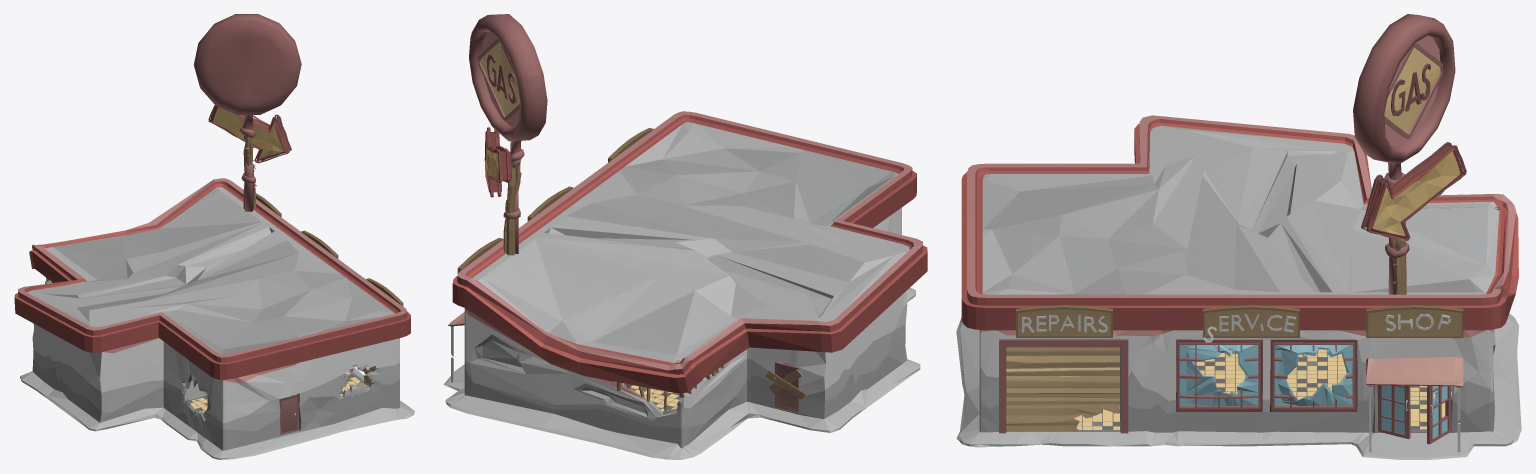
Rendered from gas_Station_building_1.obj.
3 views of the same model, side by side, from view 1: azimuth 30°, elevation 25°; view 2: azimuth 150°, elevation 25°; view 3: azimuth 270°, elevation 25° (orthographic). The views are drawn at different scales.
Visible parts, largest first — view 1: roof_Mesh, building_Mesh, gas_sign_Mesh, wall_1_hole_Mesh, door.004_Mesh, ground_tiles_Mesh; view 2: roof_Mesh, building_Mesh, gas_sign_Mesh, door.001_Mesh, ground_tiles_Mesh, board_x_Mesh; view 3: roof_Mesh, building_Mesh, gas_sign_Mesh, garage_door_Mesh, ground_tiles_Mesh, window_panel_1_Mesh, sign_service_Mesh, sign_shop_Mesh, sign_repairs_Mesh, window_panel_2_Mesh, door_left_Mesh, window_bars_1_Mesh (+2 smaller).
Boxes of the visible parts, x1=… form: roof_Mesh: x1=14, y1=178, x2=410, y2=379; building_Mesh: x1=20, y1=281, x2=414, y2=459; gas_sign_Mesh: x1=193, y1=14, x2=301, y2=211; wall_1_hole_Mesh: x1=335, y1=358, x2=382, y2=412; door.004_Mesh: x1=279, y1=394, x2=298, y2=435; ground_tiles_Mesh: x1=189, y1=372, x2=366, y2=415; roof_Mesh: x1=452, y1=111, x2=927, y2=393; building_Mesh: x1=443, y1=207, x2=920, y2=459; gas_sign_Mesh: x1=469, y1=14, x2=547, y2=255; door.001_Mesh: x1=775, y1=362, x2=799, y2=412; ground_tiles_Mesh: x1=622, y1=367, x2=720, y2=411; board_x_Mesh: x1=765, y1=369, x2=805, y2=399; roof_Mesh: x1=961, y1=115, x2=1518, y2=330; building_Mesh: x1=956, y1=313, x2=1521, y2=459; gas_sign_Mesh: x1=1353, y1=14, x2=1466, y2=294; garage_door_Mesh: x1=1006, y1=347, x2=1119, y2=430; ground_tiles_Mesh: x1=1074, y1=349, x2=1451, y2=429; window_panel_1_Mesh: x1=1179, y1=345, x2=1258, y2=405; sign_service_Mesh: x1=1203, y1=305, x2=1299, y2=342; sign_shop_Mesh: x1=1366, y1=305, x2=1463, y2=337; sign_repairs_Mesh: x1=1016, y1=305, x2=1112, y2=337; window_panel_2_Mesh: x1=1274, y1=345, x2=1352, y2=405; door_left_Mesh: x1=1377, y1=385, x2=1410, y2=439; window_bars_1_Mesh: x1=1178, y1=342, x2=1260, y2=409.
Size of the model in its own units: 12.41 by 11.75 by 14.39.
